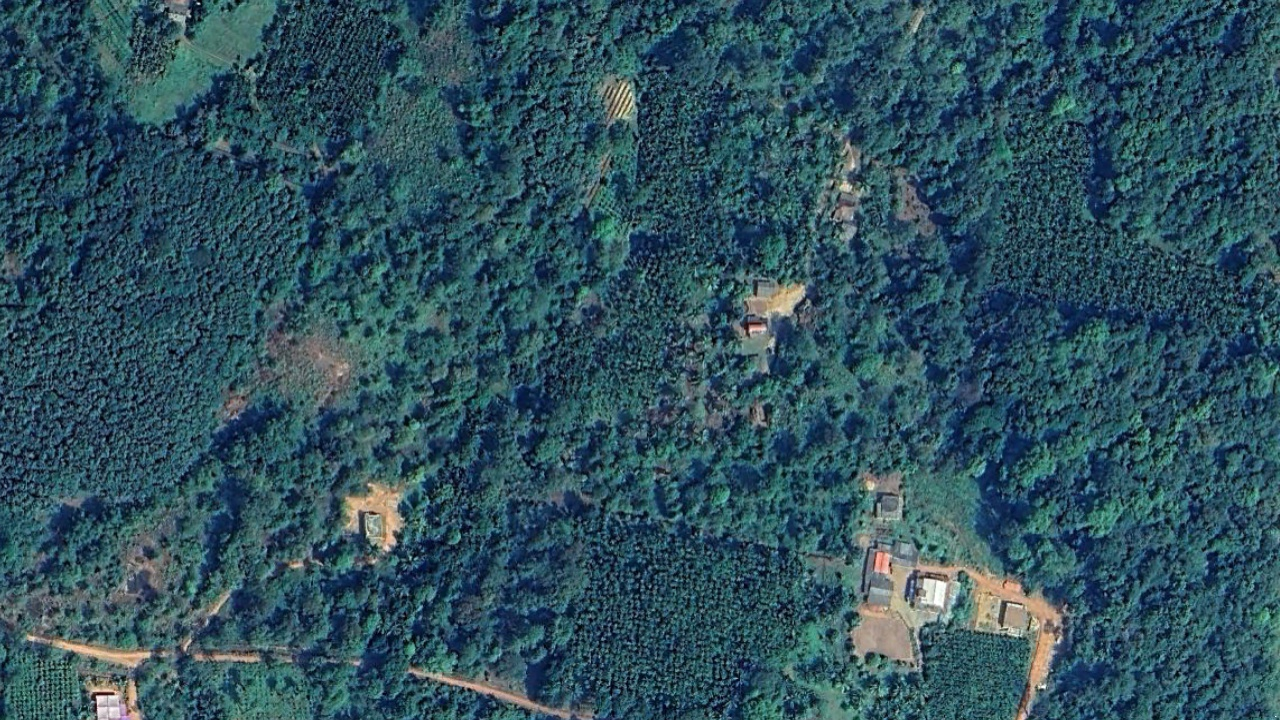arecanut: (991, 107, 1280, 357), (571, 496, 794, 720), (612, 60, 726, 411), (278, 2, 412, 136), (916, 613, 1055, 720)
